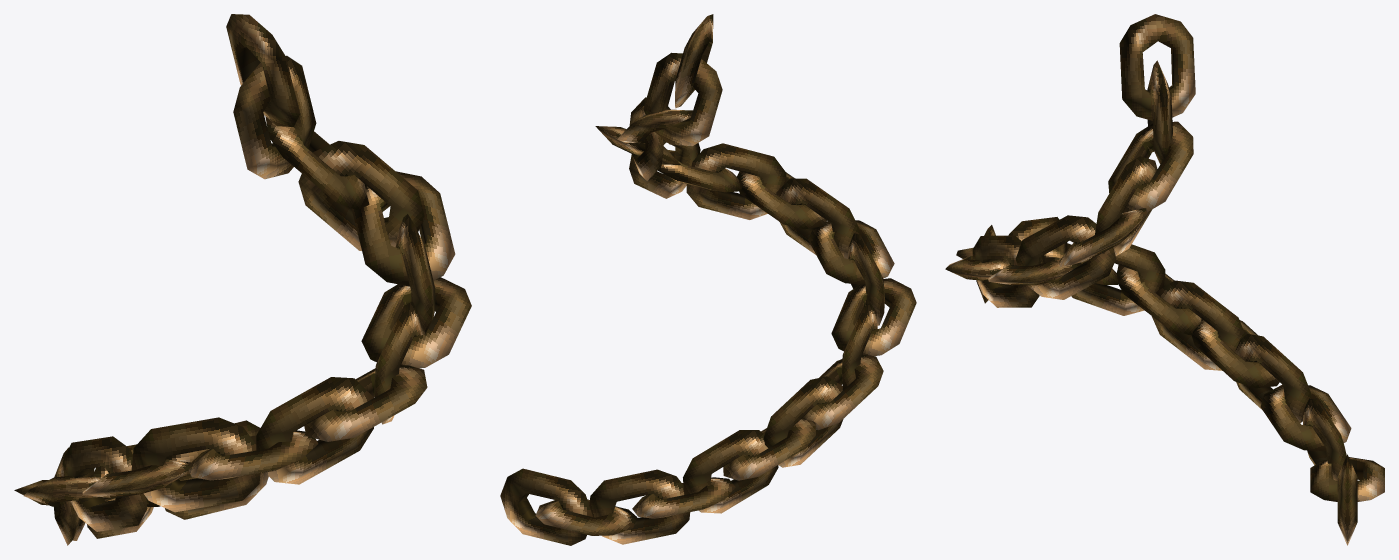
The model's file is LONE_MOUNT_CHAIN.obj.
3 renders of one model, left to right at view 1: azimuth 30°, elevation 25°; view 2: azimuth 150°, elevation 25°; view 3: azimuth 270°, elevation 25°, orthographic. The views are drawn at different scales.
Visible parts, largest first — view 1: loneMountChain; view 2: loneMountChain; view 3: loneMountChain.
Boxes of the visible parts, <box> form: loneMountChain: <box>14,14,471,545</box>; loneMountChain: <box>500,14,916,545</box>; loneMountChain: <box>945,14,1384,545</box>.
Bounding box in the file's own units: 61.63 × 92.42 × 75.77.
